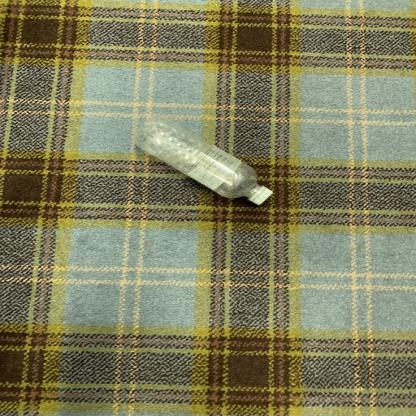trash: (132, 120, 273, 208)
